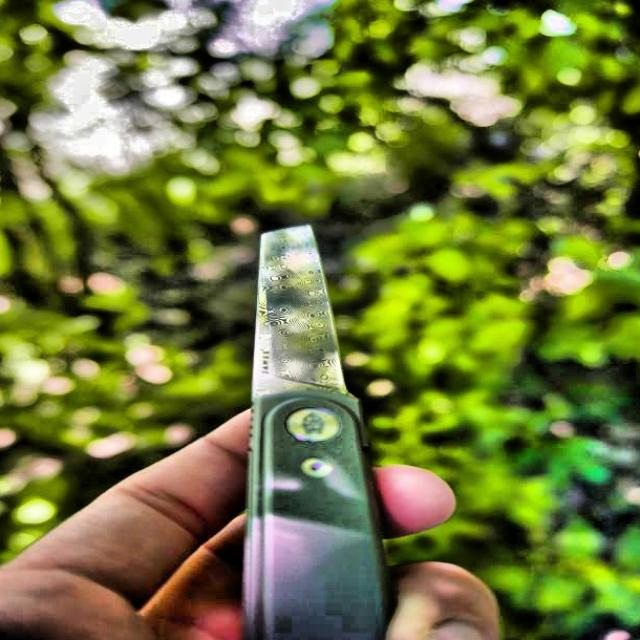knife: (246, 212, 392, 640)
